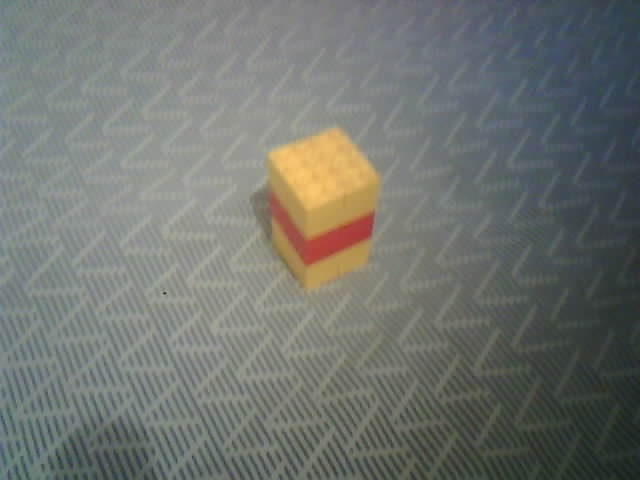lego: (263, 125, 380, 292)
